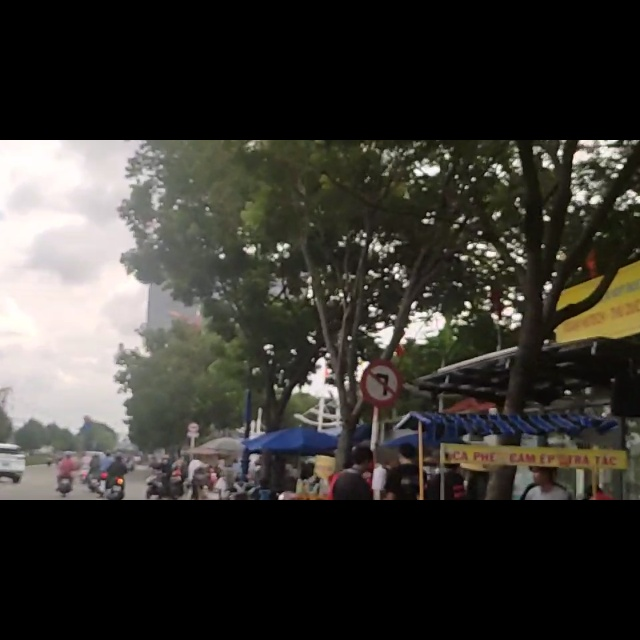bien_cam: (363, 398, 397, 467)
